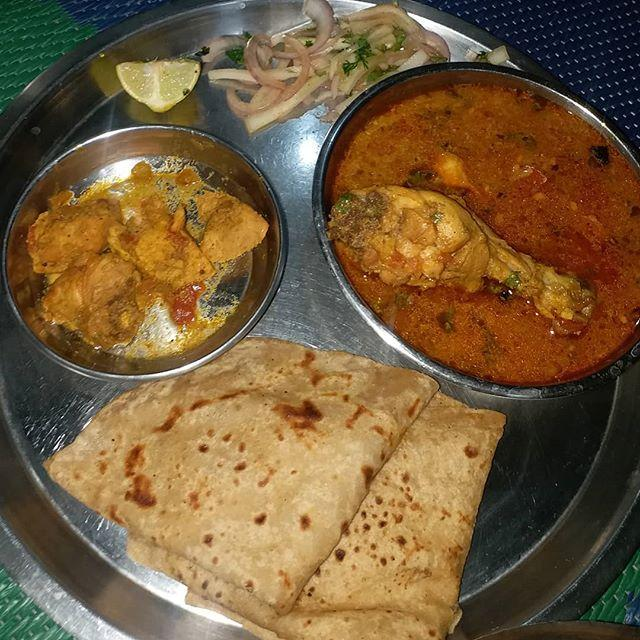Roti: (66, 371, 500, 621)
